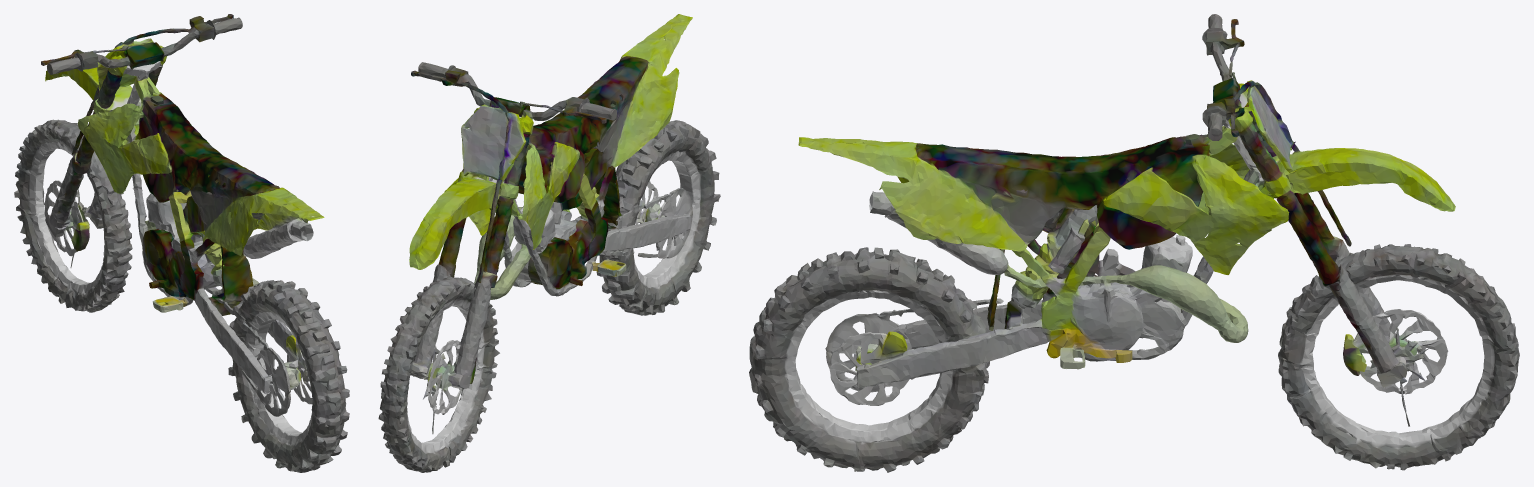
3 renders of one model, left to right at view 1: azimuth 30°, elevation 25°; view 2: azimuth 150°, elevation 25°; view 3: azimuth 270°, elevation 25°, orthographic. The views are drawn at different scales.
Parts seen in each view (by area): view 1: defaultobject; view 2: defaultobject; view 3: defaultobject.
Boxes of the visible parts, left/top/right/bottom form: defaultobject: left=14, top=14, right=349, bottom=472; defaultobject: left=378, top=14, right=720, bottom=472; defaultobject: left=749, top=14, right=1519, bottom=472.
Bounding box in the file's own units: 0.3369 × 0.5466 × 0.9505.
